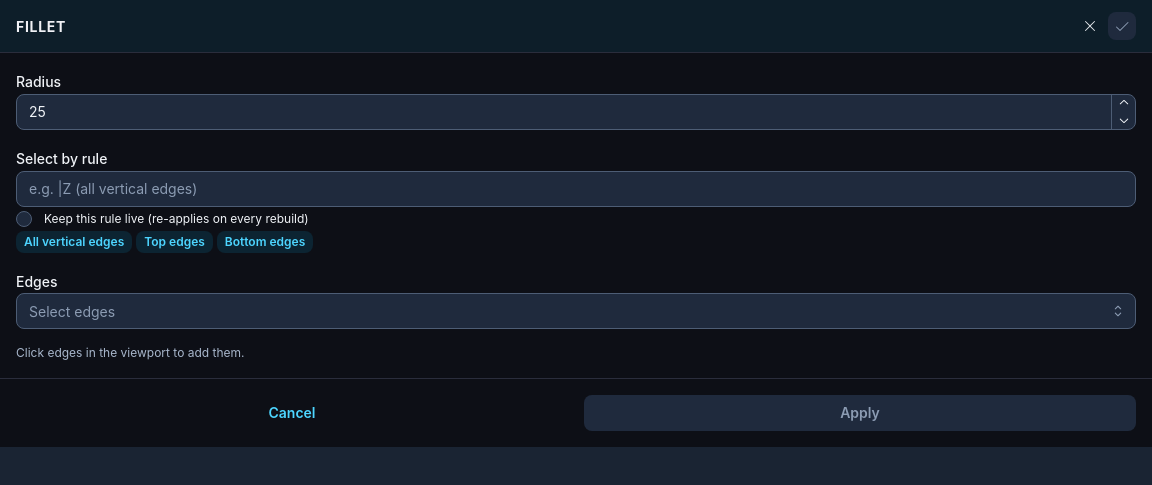
OperationPanel — selector-rule input (ROADMAP §9.1 Phase 3) › a preset chip applies its selector immediately
Click the button "All vertical edges" at (74, 242), box left=16, top=231, right=132, bottom=253
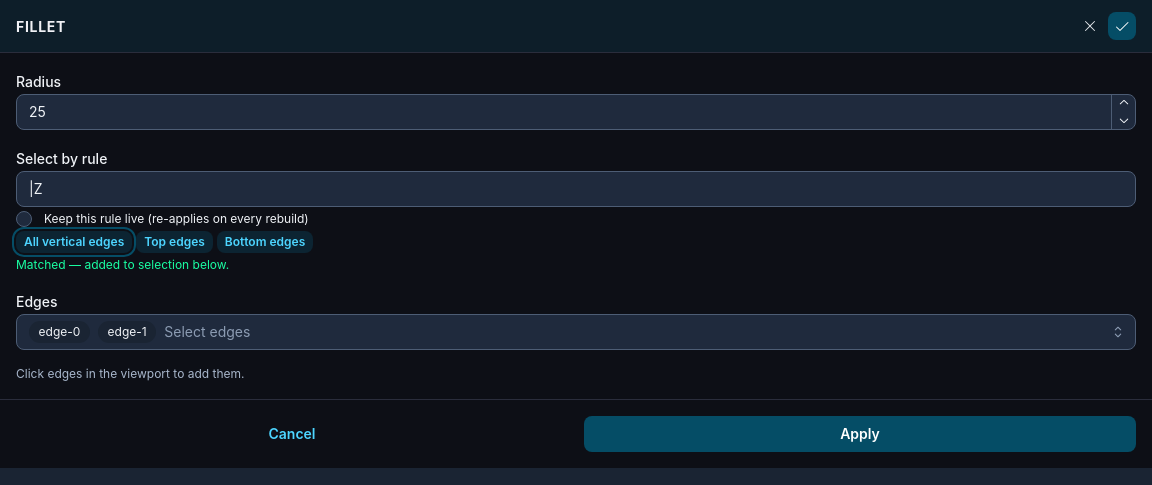
expect the text "edge-0" is shown: met, box left=39, top=321, right=80, bottom=343
expect the text "edge-1" is shown: met, box left=108, top=321, right=147, bottom=343
